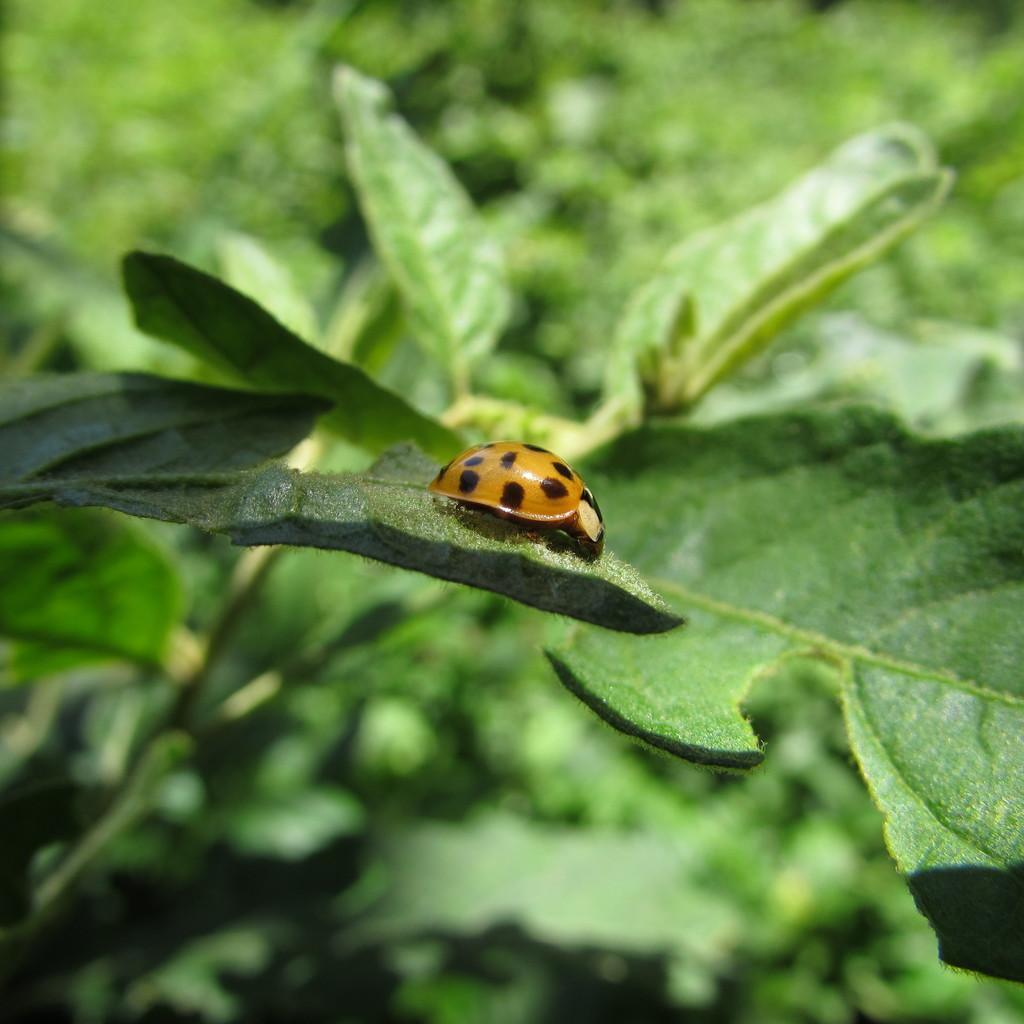ladybug: (426, 439, 611, 566)
